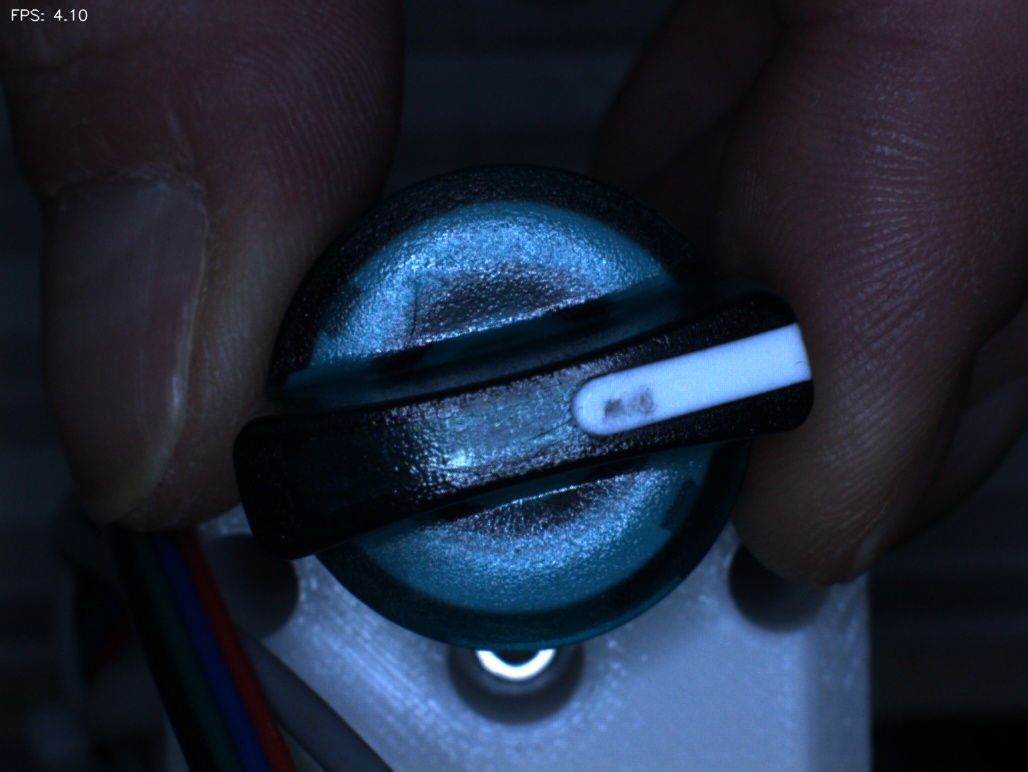PointNoir: (567, 361, 676, 465)
